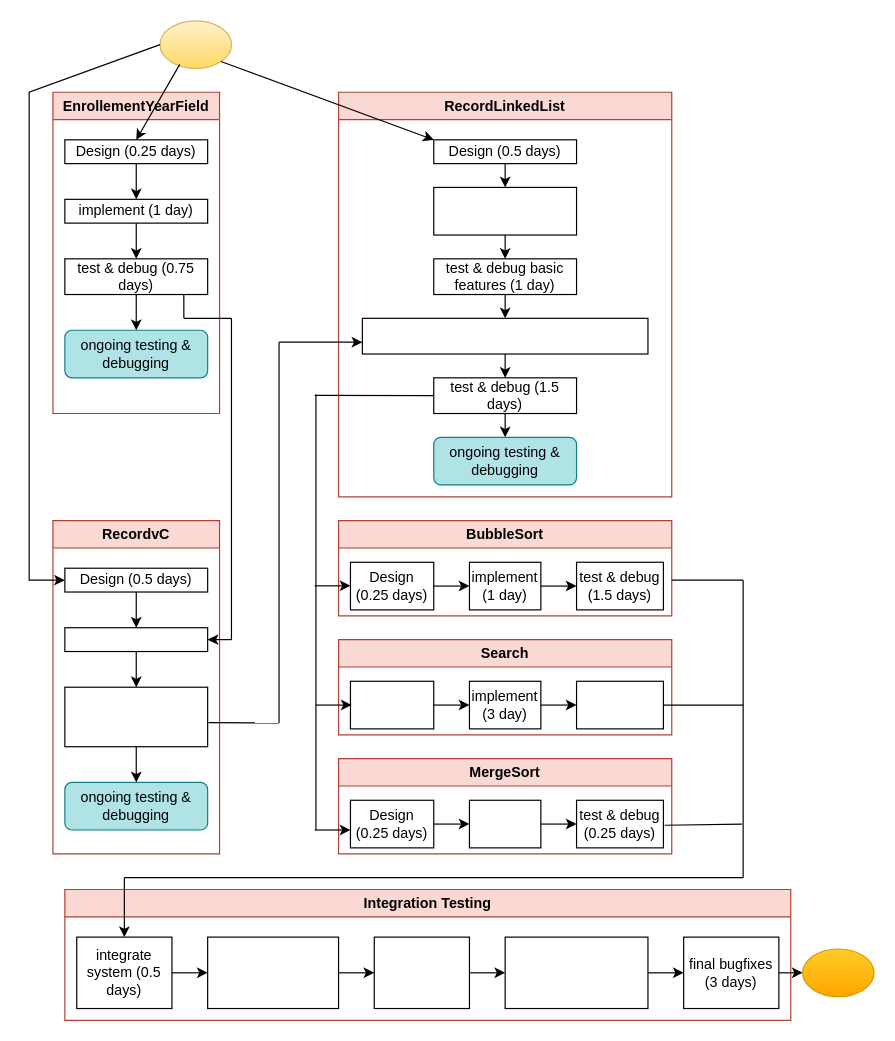
The diagram is 895 pixels wide and 1041 high, and some of its shapes have lost their labels. Here are the shapes that lost their labels. From the top down, the centre of each, then its label:
At point 195,44: "START".
At point 505,210: "implement basic features (1 day)".
At point 504,335: "implement features which heavily depend on RecordvC implementation (1 day)".
At point 136,639: "implement (1.5 days)".
At point 136,716: "test & debug (1 day)".
At point 391,704: "Design (1 day)".
At point 619,704: "test & debug (2 days)".
At point 504,823: "implement (0.5 day)".
At point 272,972: "modify RecordLL tests for integration & run them (1.5 days)".
At point 421,972: "create & run additional tests (1 day)".
At point 576,972: "use Clang sanitisers to analyse behaviour (memory bugs etc) (1 day)".
At point 837,972: "END".
